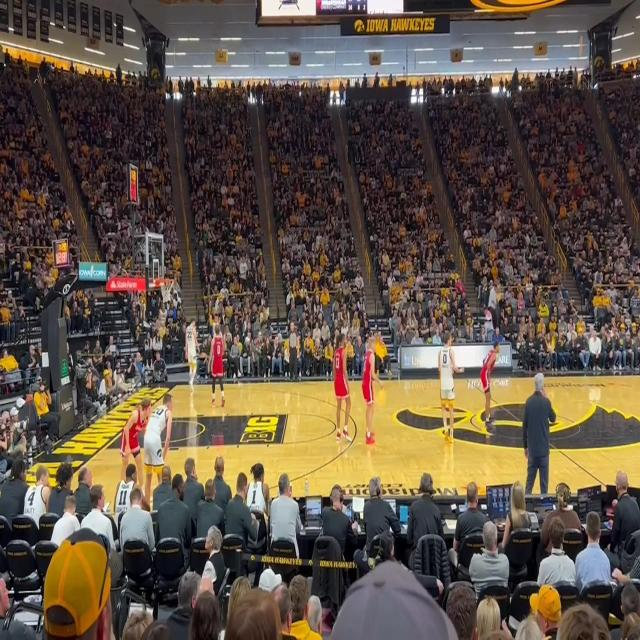Hoop: (158, 278, 174, 302)
Player: (143, 393, 174, 509), (120, 397, 153, 502), (438, 330, 465, 444), (362, 338, 384, 444), (333, 333, 352, 443), (481, 340, 501, 430), (208, 324, 226, 407), (185, 316, 200, 392)
Ref: (287, 321, 299, 382)
